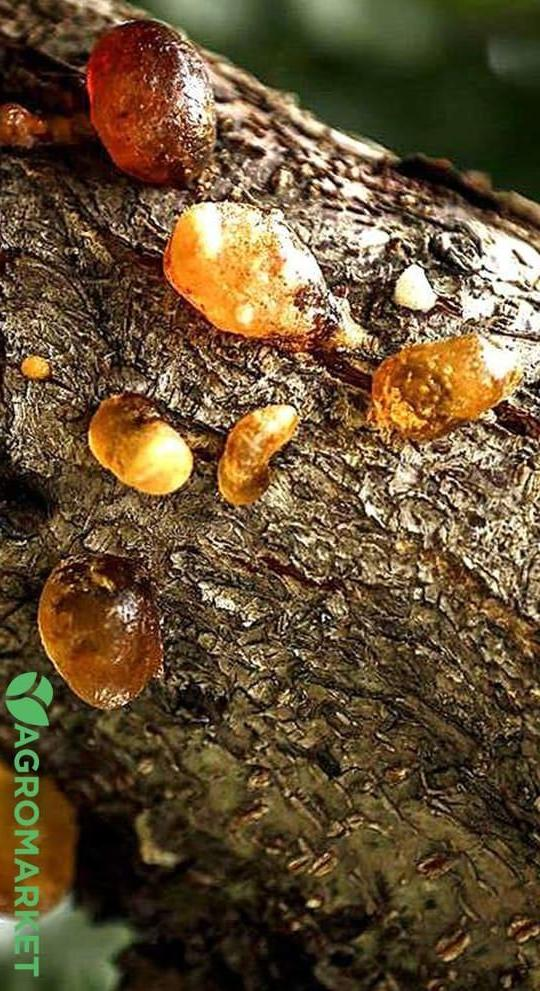gommosis: (164, 201, 363, 350), (87, 21, 215, 185), (38, 553, 162, 708), (372, 333, 520, 440), (88, 393, 192, 495), (218, 404, 298, 505), (0, 102, 92, 147), (21, 355, 50, 380)
